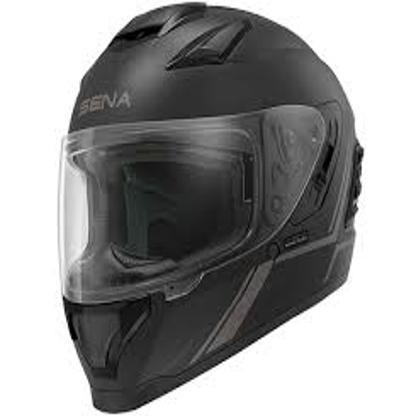not trash: (57, 4, 361, 416)
